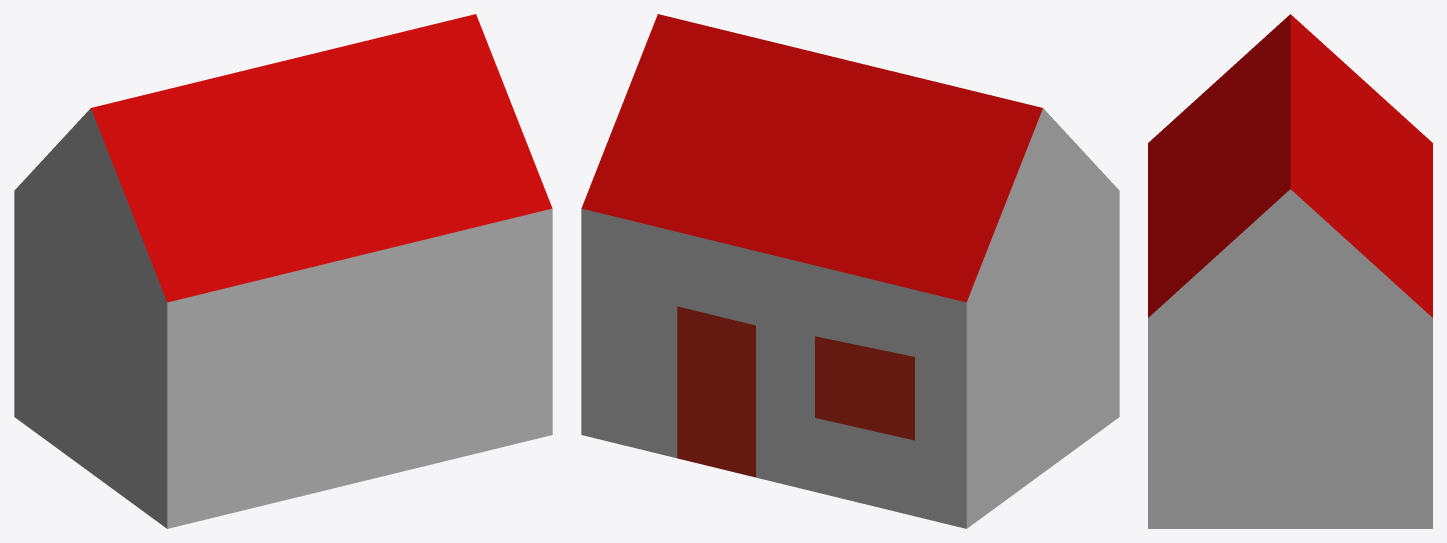
The model's file is house3.obj.
3 renders of one model, left to right at view 1: azimuth 30°, elevation 25°; view 2: azimuth 150°, elevation 25°; view 3: azimuth 270°, elevation 25°, orthographic. The views are drawn at different scales.
Parts seen in each view (by area): view 1: Cube.002; view 2: Cube.002; view 3: Cube.002.
Boxes of the visible parts, x1=… form: Cube.002: x1=14, y1=14, x2=552, y2=528; Cube.002: x1=581, y1=14, x2=1119, y2=528; Cube.002: x1=1148, y1=14, x2=1432, y2=528.
Bounding box in the file's own units: 1.96 × 1.77 × 1.34.
